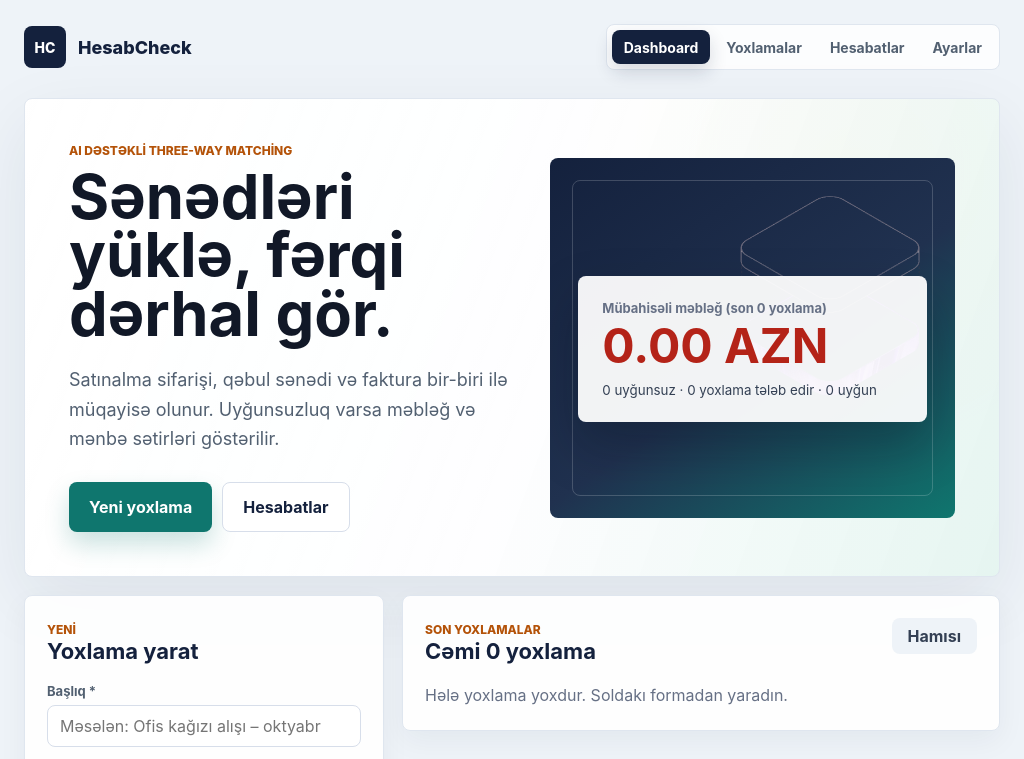
Test: açılış › Ayarlarda yalnız backend qaydaları göstərilir
Click the button "Ayarlar" at (957, 47), box [920,30,994,64]
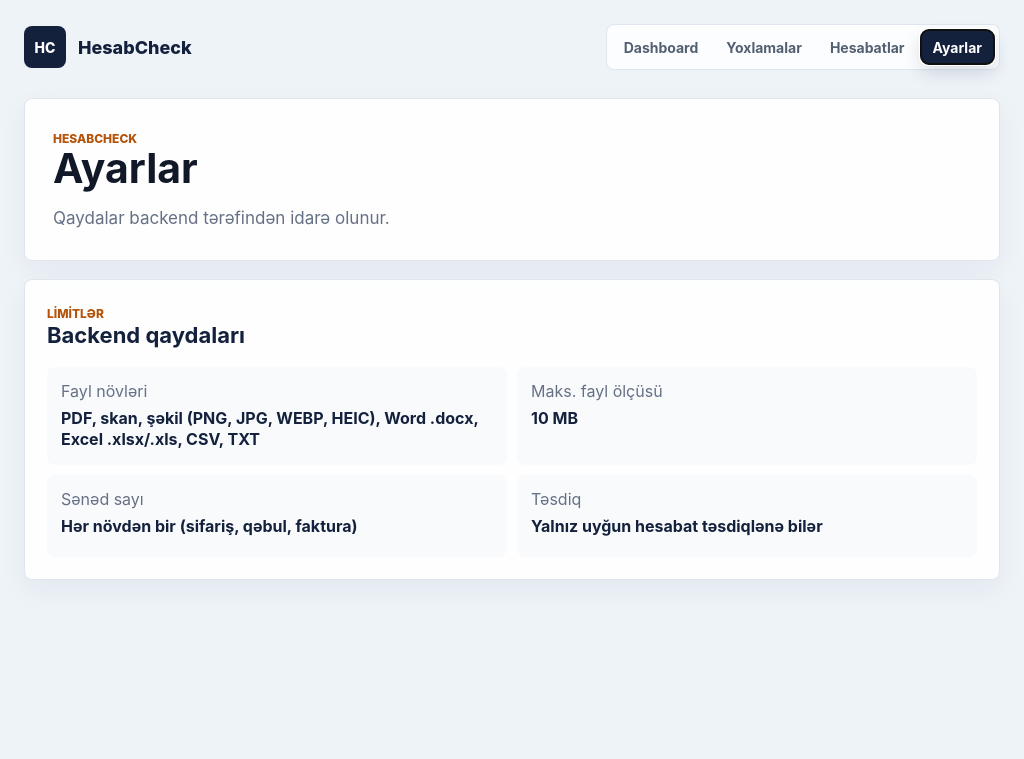
Expected: the heading "Backend qaydaları" is shown, [47,322,245,348]
Expected: the text "10 MB" is shown, [531,408,578,428]
